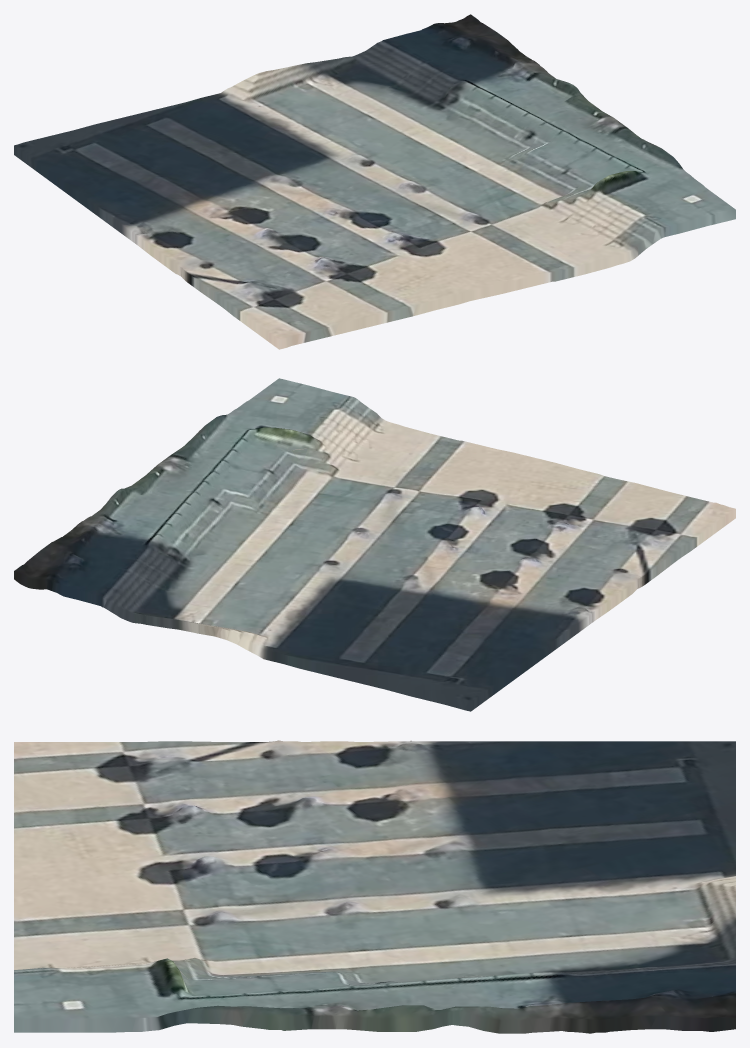
The model's file is z20-167749-405248-h0-yup-uvflip-v3-world.glb.
The picture shows the model from 3 angles, top to bottom: view 1: azimuth 30°, elevation 25°; view 2: azimuth 150°, elevation 25°; view 3: azimuth 270°, elevation 25°; orthographic projection. The views are drawn at different scales.
Size of the model in its own units: 30.16 by 2.28 by 30.32.
1 material, 1 textured.
